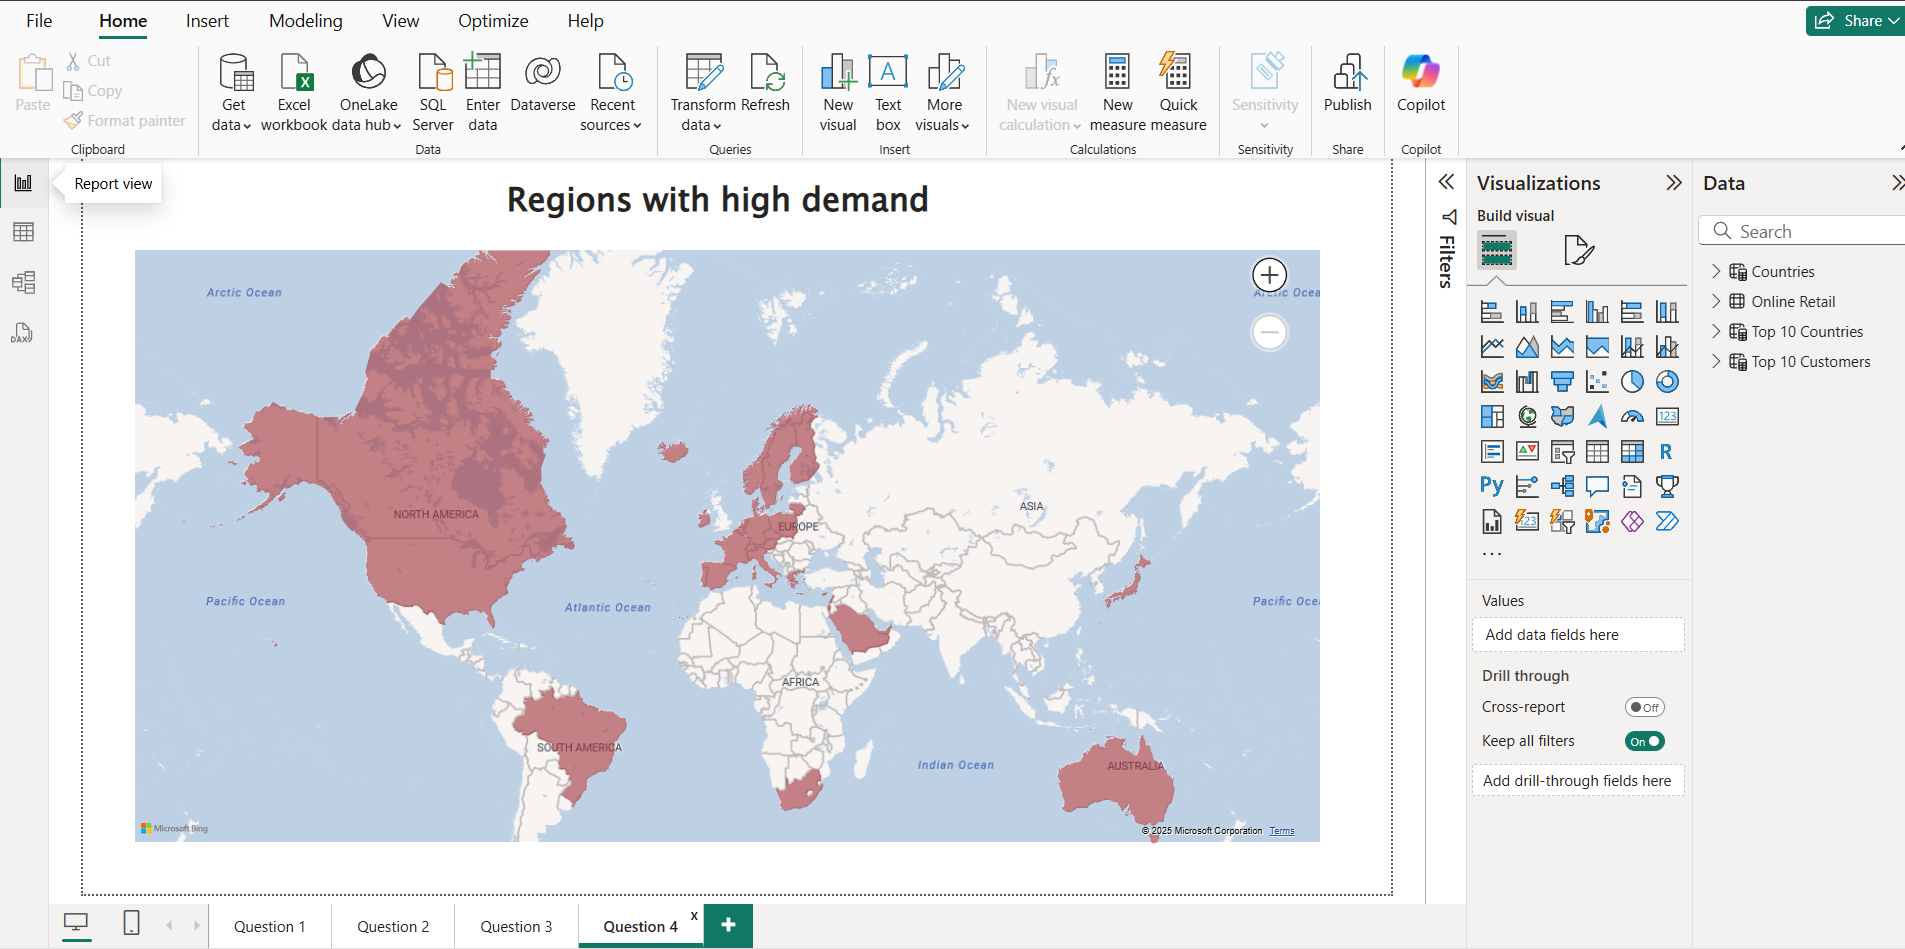

This screenshot's page, from the dashboard's own definition file:
{"tool":"powerbi","page":{"name":"Question 4","canvas":[1280,720],"ordinal":3},"visuals":[{"type":"filledMap","fields":{"Category":["Countries.Country","Countries.Total Quantity"]},"box":[46.5,85.6,1169,589.4],"z":0},{"type":"textbox","box":[410.3,12.8,482.1,73.1],"z":1000}]}

Visuals, with their boxes on the page's 1280x720 design canvas (x1, y1, x2, y2). These are canvas units, not pixel positions in the 1905x949 screenshot, which may show the page scaled, cropped or inside an application window:
filledMap - Countries.Country x Countries.Total Quantity: 46,86,1216,675
textbox: 410,13,892,86
